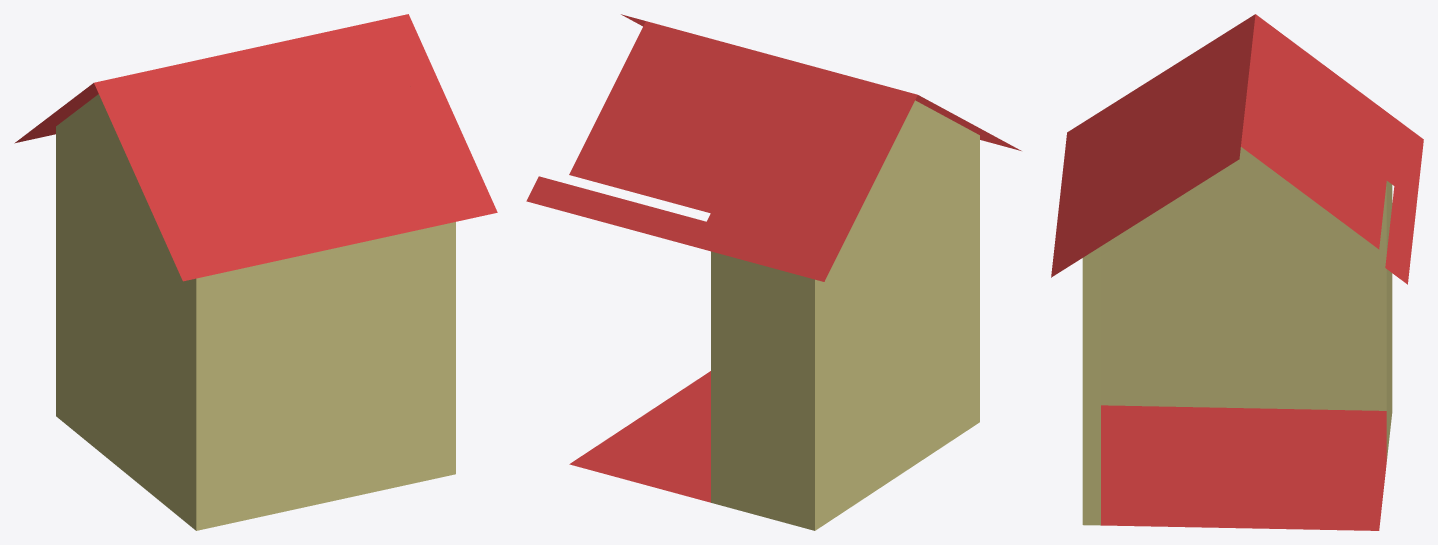
The picture shows the model from 3 angles, left to right: view 1: azimuth 30°, elevation 25°; view 2: azimuth 150°, elevation 25°; view 3: azimuth 270°, elevation 25°; orthographic projection. The views are drawn at different scales.
Size of the model in its own units: 11.98 by 12.39 by 13.99.
